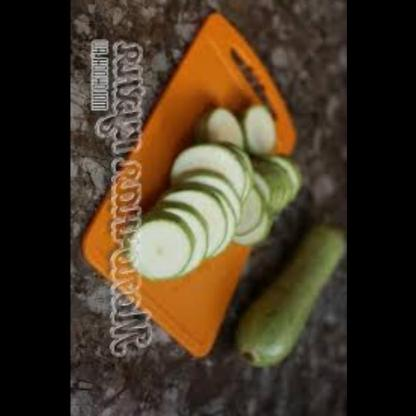vegetable marrow: (120, 102, 315, 280), (235, 187, 347, 385)
